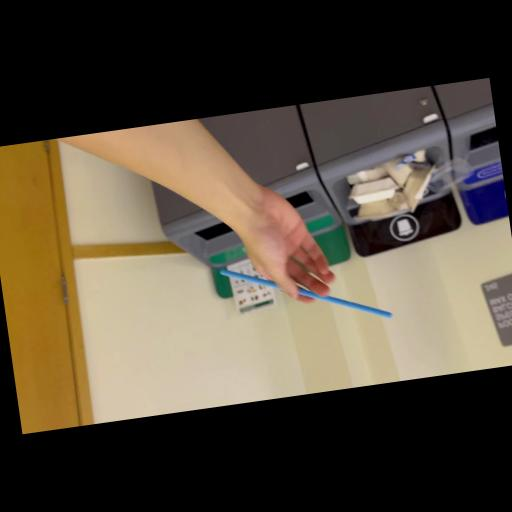straw: (222, 246, 392, 340)
